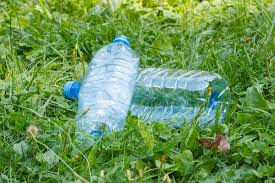plastic_bottle: (53, 68, 232, 130), (75, 33, 139, 145)
